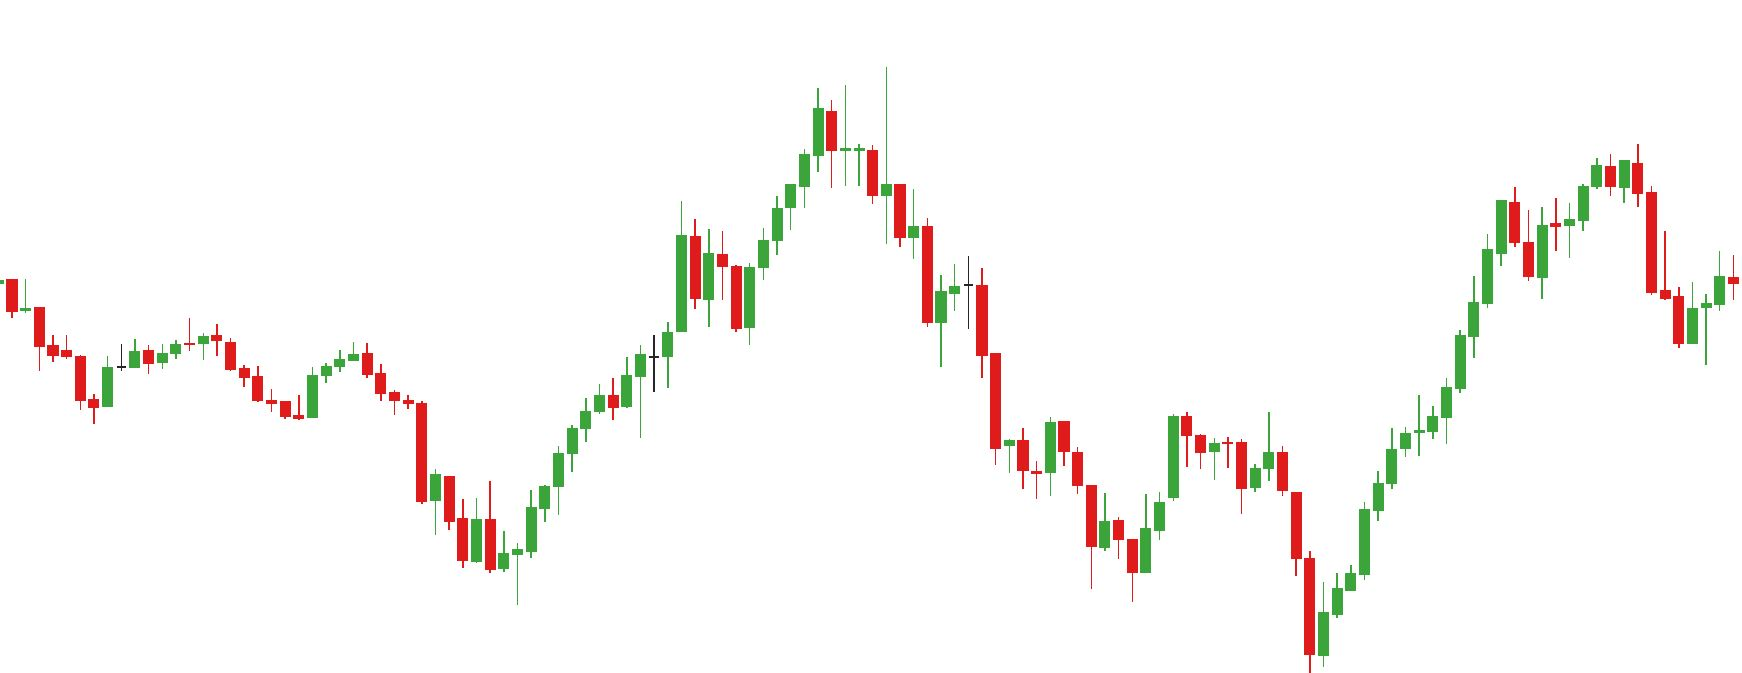buy: (1124, 516, 1343, 669)
sell: (1045, 411, 1195, 506)
